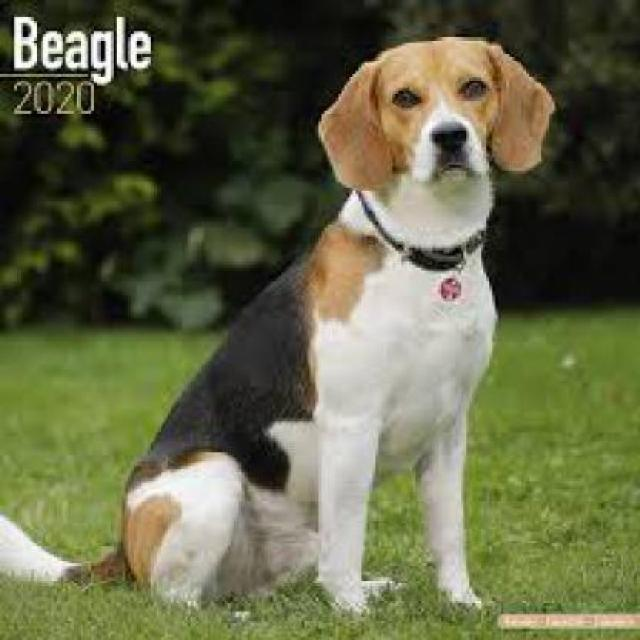Dog: (0, 34, 557, 620)
